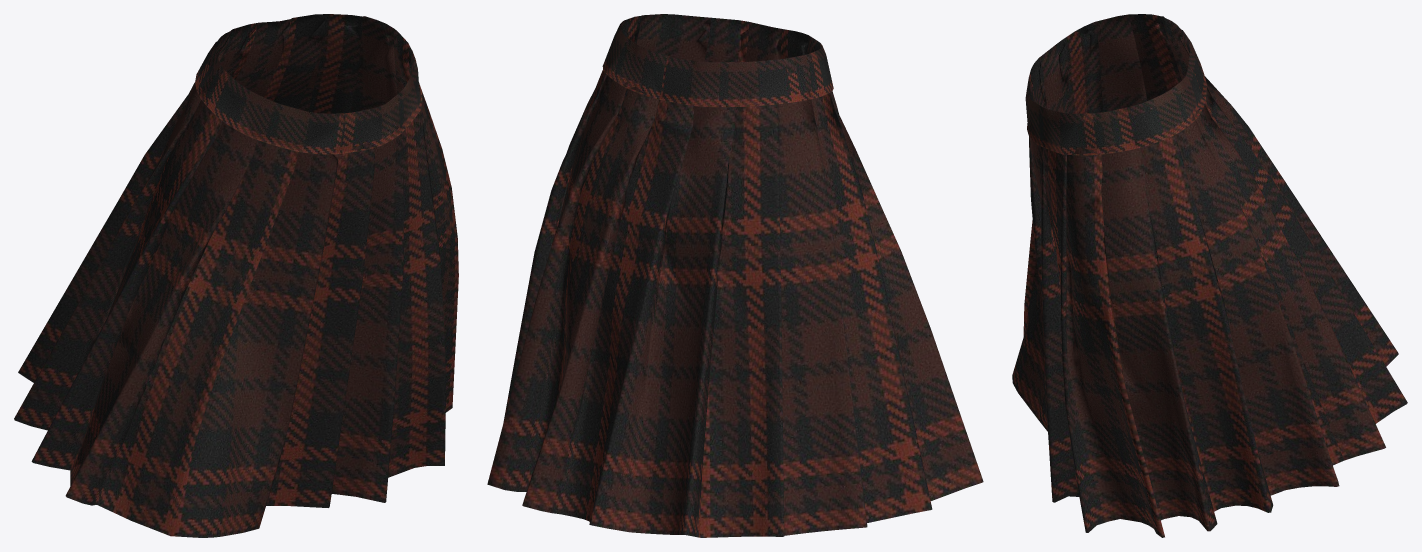
File: skirt.glb
3 renders of one model, left to right at view 1: azimuth 30°, elevation 25°; view 2: azimuth 150°, elevation 25°; view 3: azimuth 270°, elevation 25°, orthographic. The views are drawn at different scales.
Visible parts, largest first — view 1: skirt; view 2: skirt; view 3: skirt.
Part boxes in pixels (x1=…): skirt: x1=14, y1=14, x2=458, y2=537; skirt: x1=487, y1=14, x2=983, y2=537; skirt: x1=1012, y1=14, x2=1407, y2=537.
Bounding box in the file's own units: 0.421 × 0.4322 × 0.358.
1 material, 1 textured.
